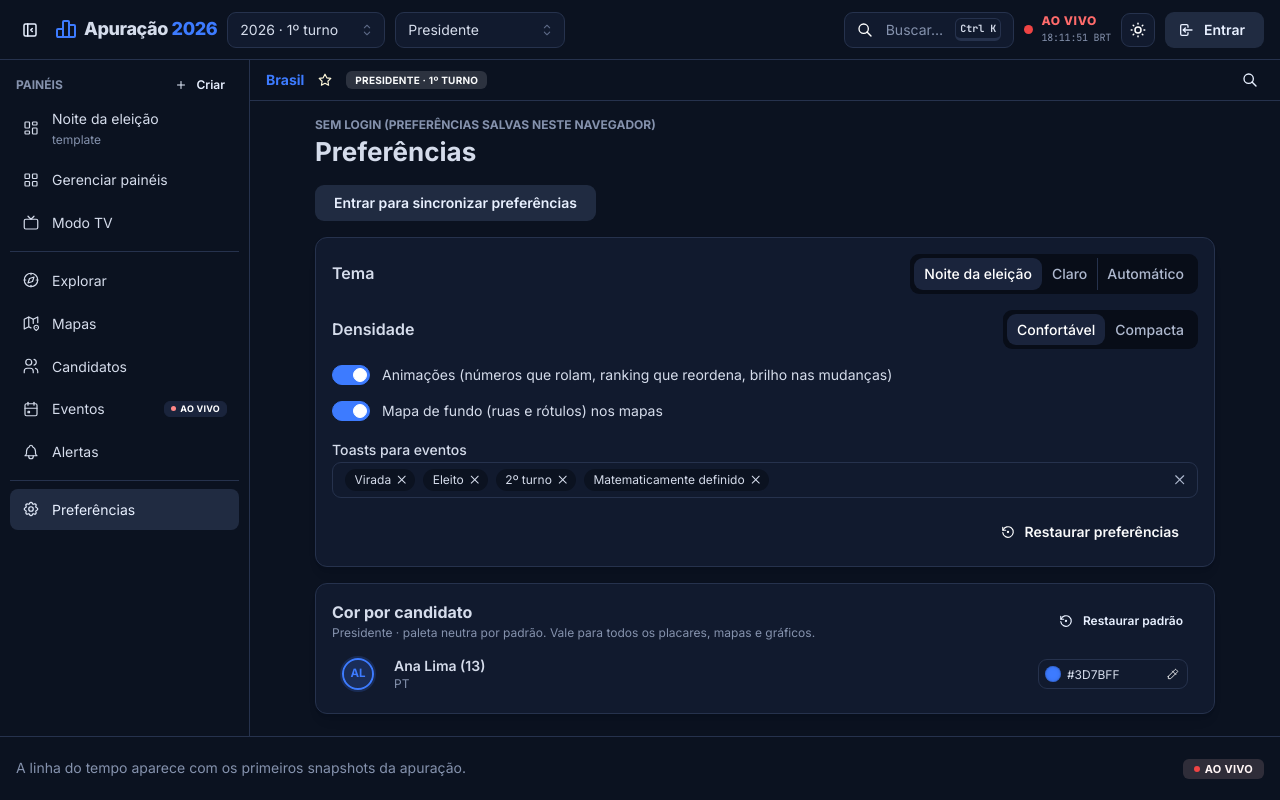
it: sign-in modal › shows the API's message when the password is wrong
Click the button "Entrar para sincronizar preferências" at (455, 203), box x1=315 y1=185 x2=596 y2=221
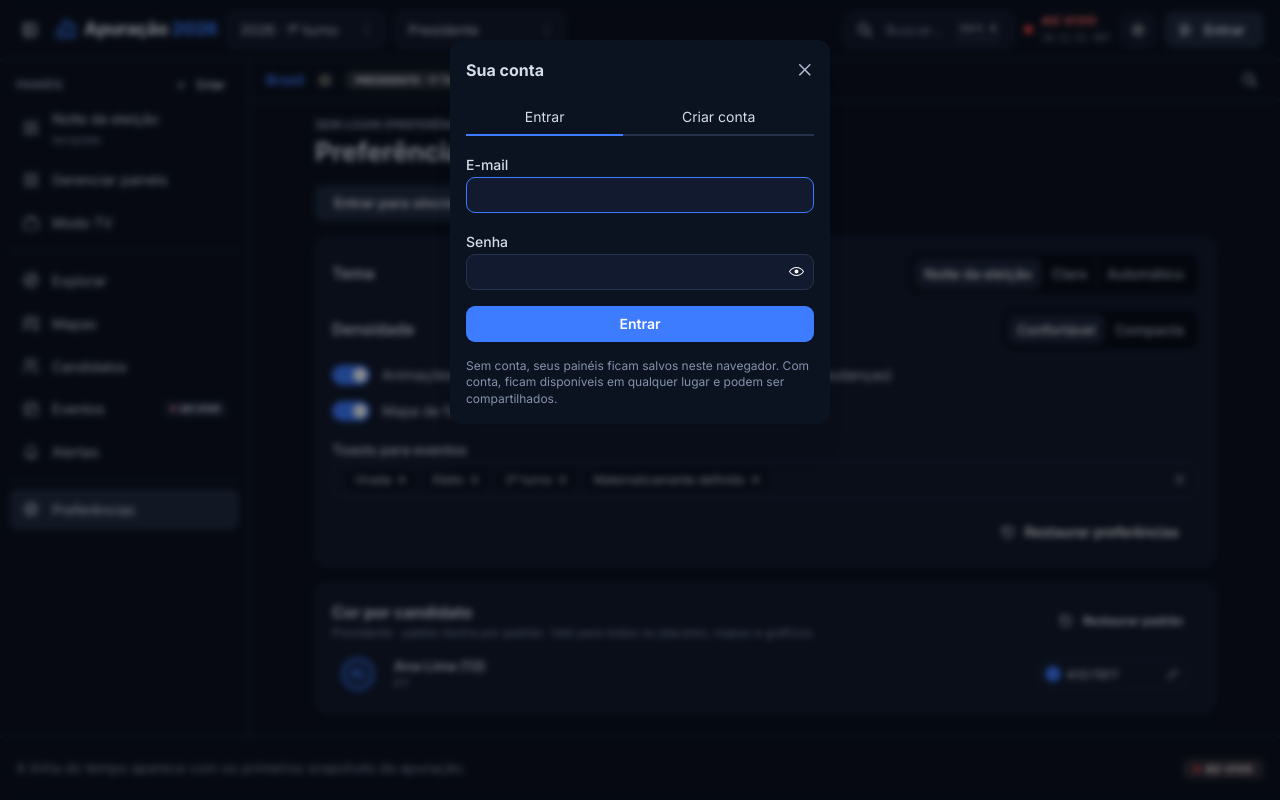
Type "eleitor@example.com" into the field labelled "E-mail" at (640, 195), box x1=466 y1=177 x2=814 y2=213
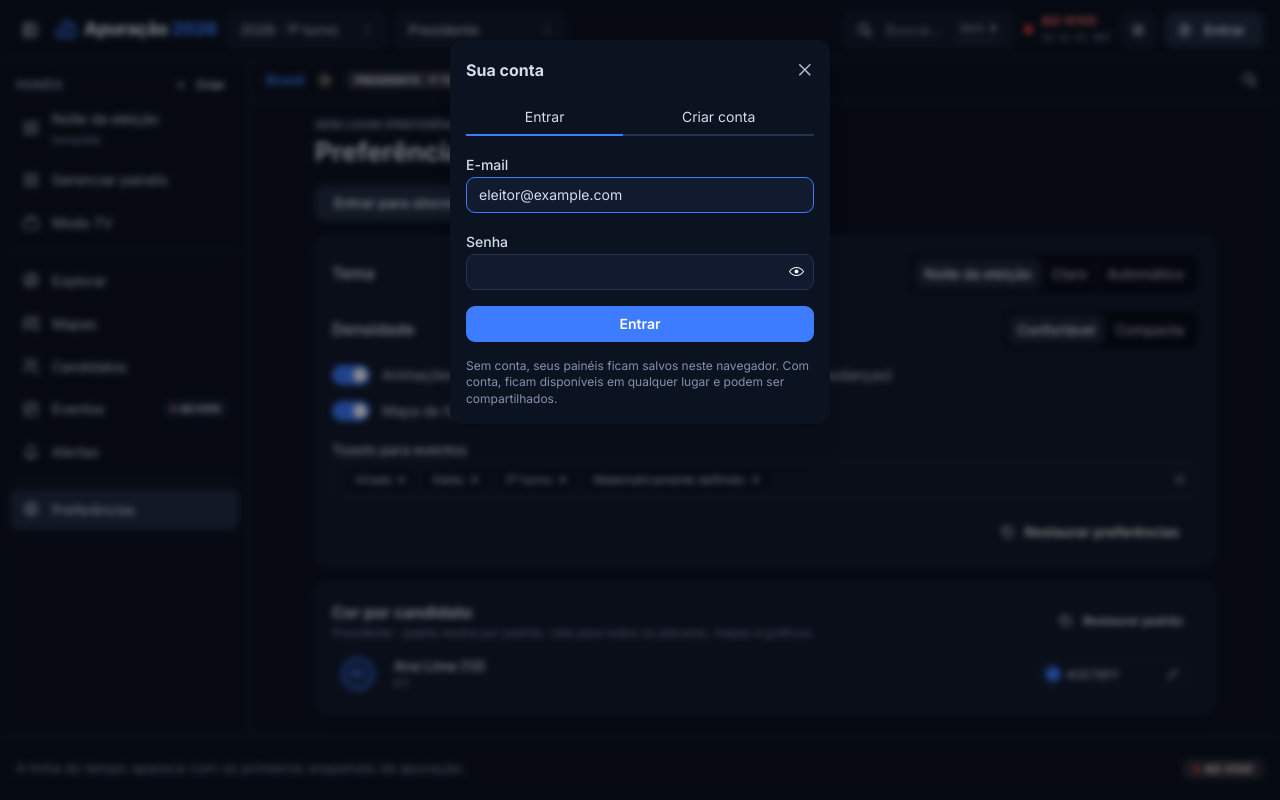
Type "senha-errada" into the password field labelled "Senha" at (640, 272), box x1=467 y1=255 x2=813 y2=289
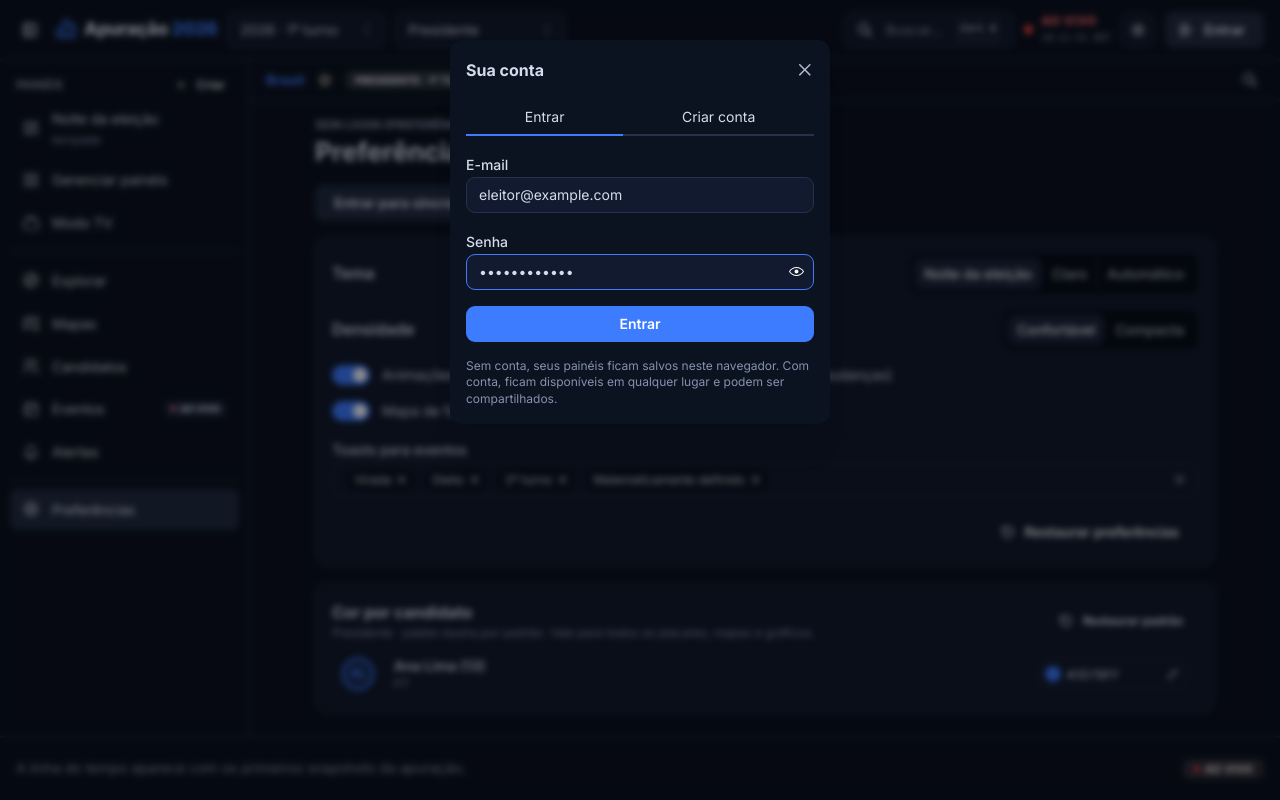
Click the button "Entrar" at (640, 324), box x1=466 y1=306 x2=814 y2=342
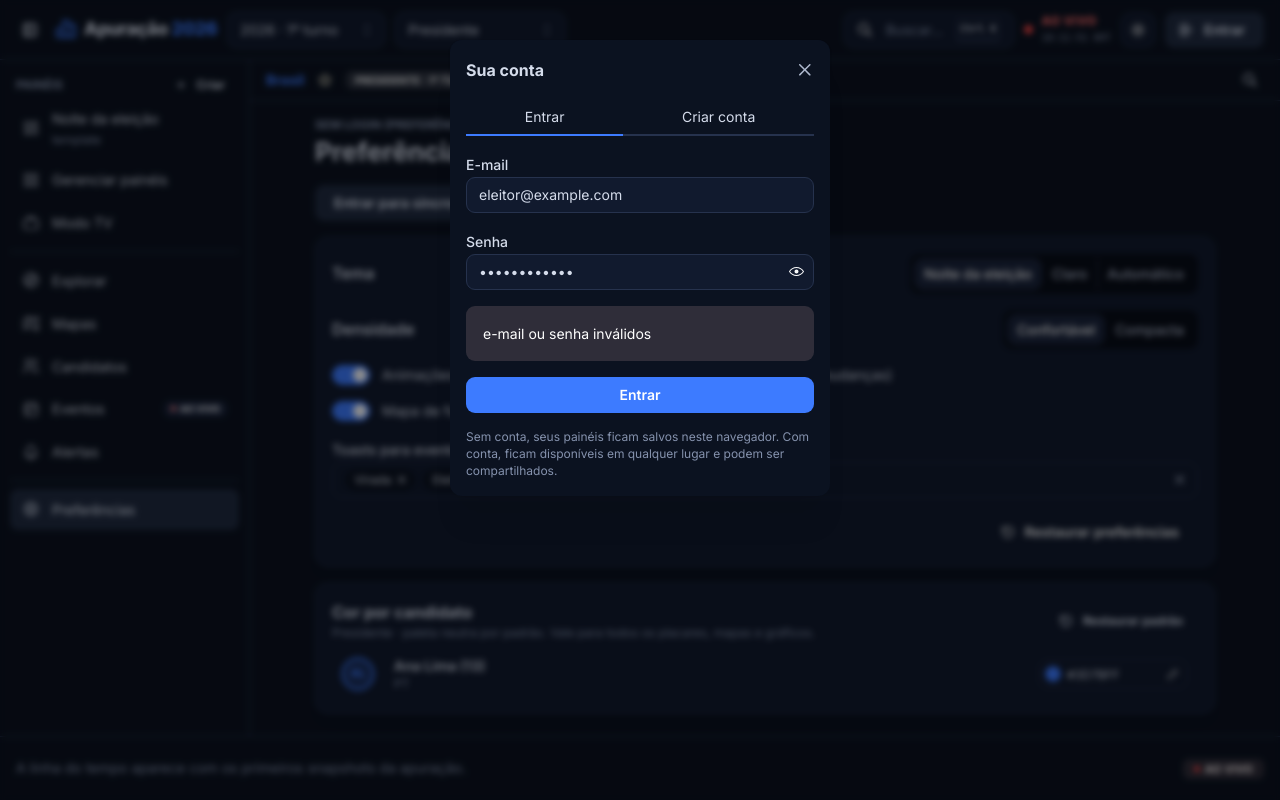
Now the text "e-mail ou senha inválidos" is shown, box x1=483 y1=325 x2=651 y2=342
